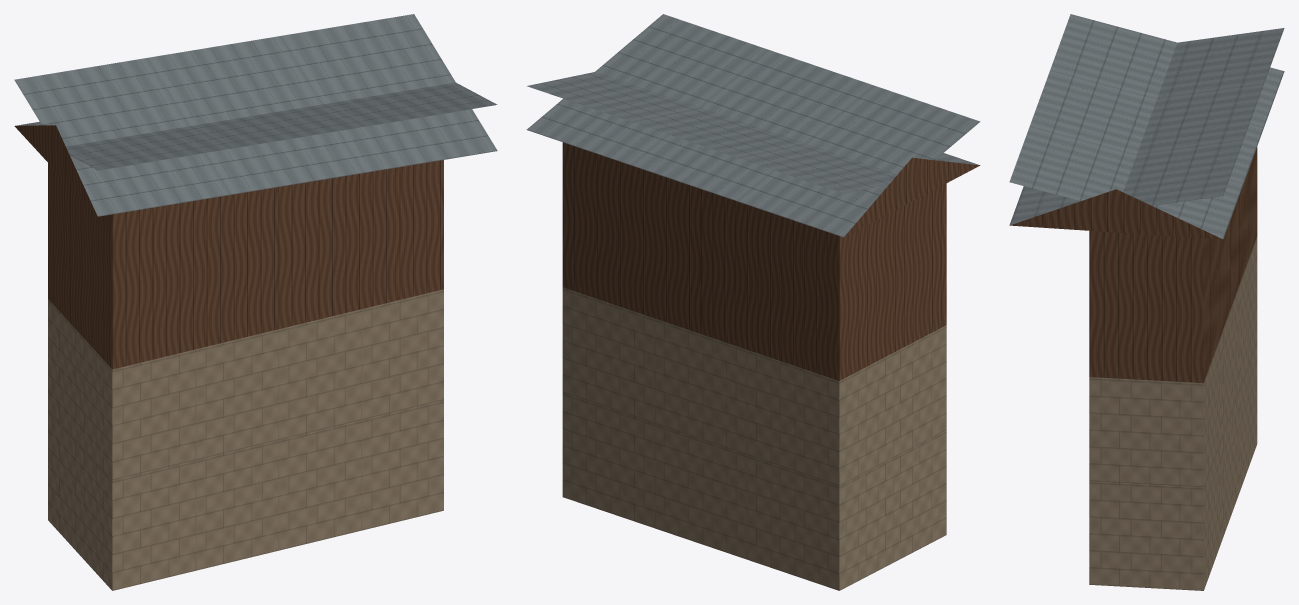
Rendered from bld_c-18_18_511.gltf.
The picture shows the model from 3 angles, left to right: view 1: azimuth 30°, elevation 25°; view 2: azimuth 150°, elevation 25°; view 3: azimuth 270°, elevation 25°; orthographic projection. The views are drawn at different scales.
Parts seen in each view (by area): view 1: bld_c-18_18_511; view 2: bld_c-18_18_511; view 3: bld_c-18_18_511.
Part boxes in pixels (box(x1,y1,x2,y2)): bld_c-18_18_511: box(14, 14, 497, 590); bld_c-18_18_511: box(526, 14, 980, 590); bld_c-18_18_511: box(1009, 14, 1284, 590).
Size of the model in its own units: 9.01 by 9.4 by 5.75.
Materials: 4 (4 with a texture image).
